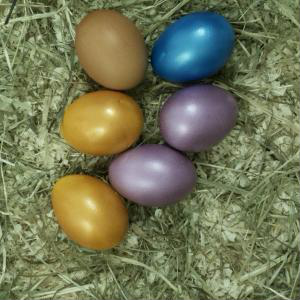egg: (51, 172, 131, 249), (150, 12, 235, 84), (75, 9, 148, 91), (107, 144, 199, 209), (158, 86, 238, 154), (61, 91, 143, 155)
